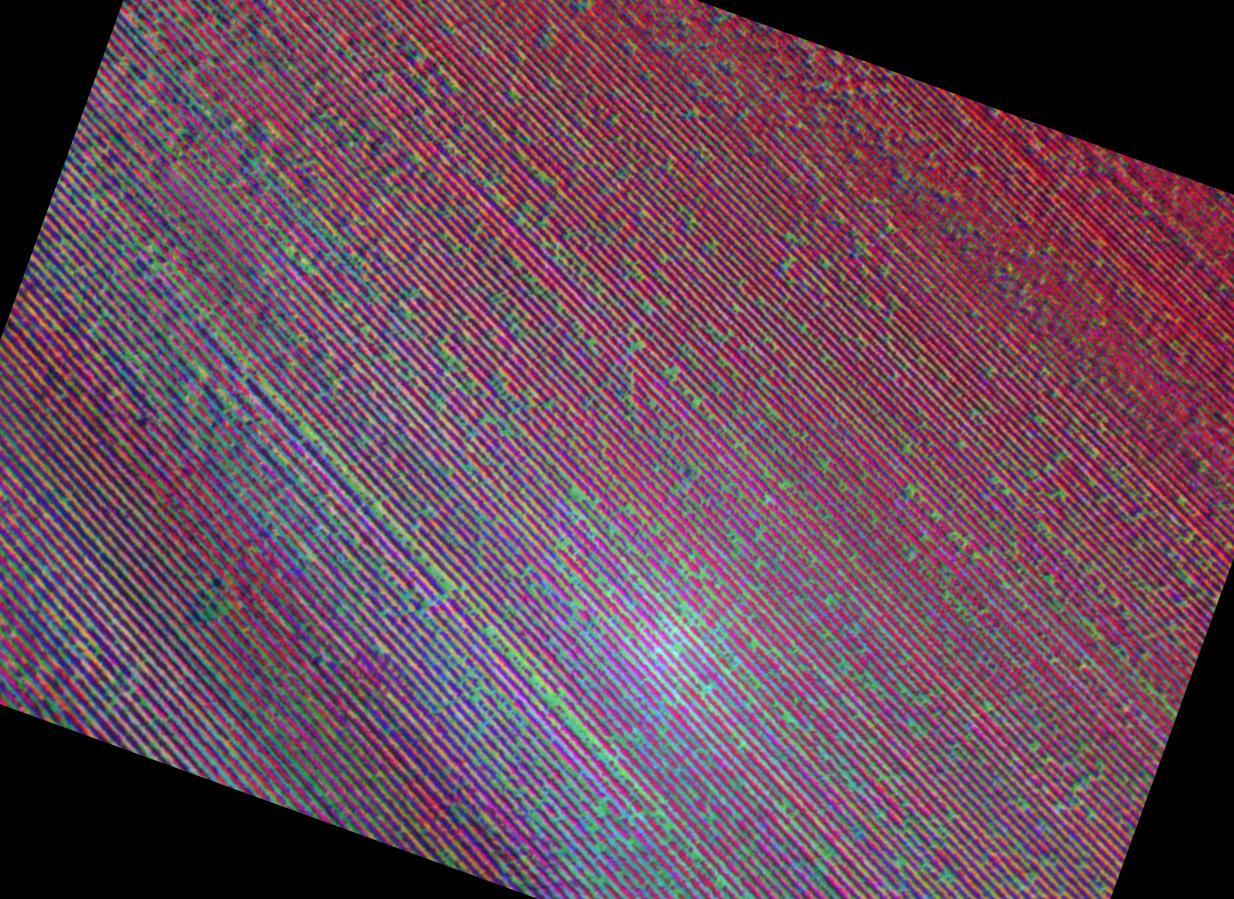dc: (281, 515, 429, 670), (593, 515, 712, 633), (491, 678, 600, 786), (136, 308, 248, 413), (783, 673, 881, 792)
